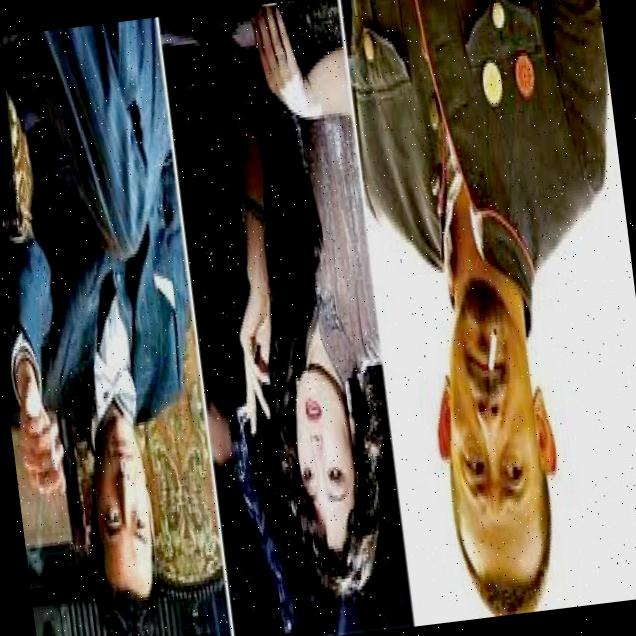smoke: (236, 420, 301, 636)
